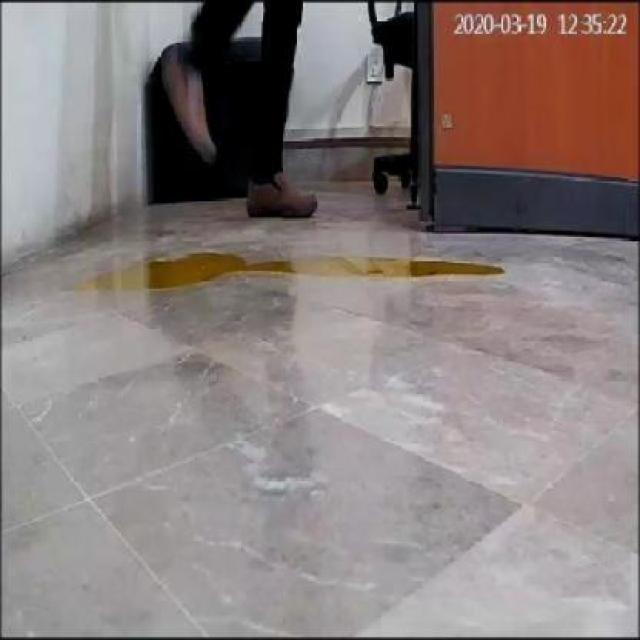spillage: (73, 241, 501, 298)
